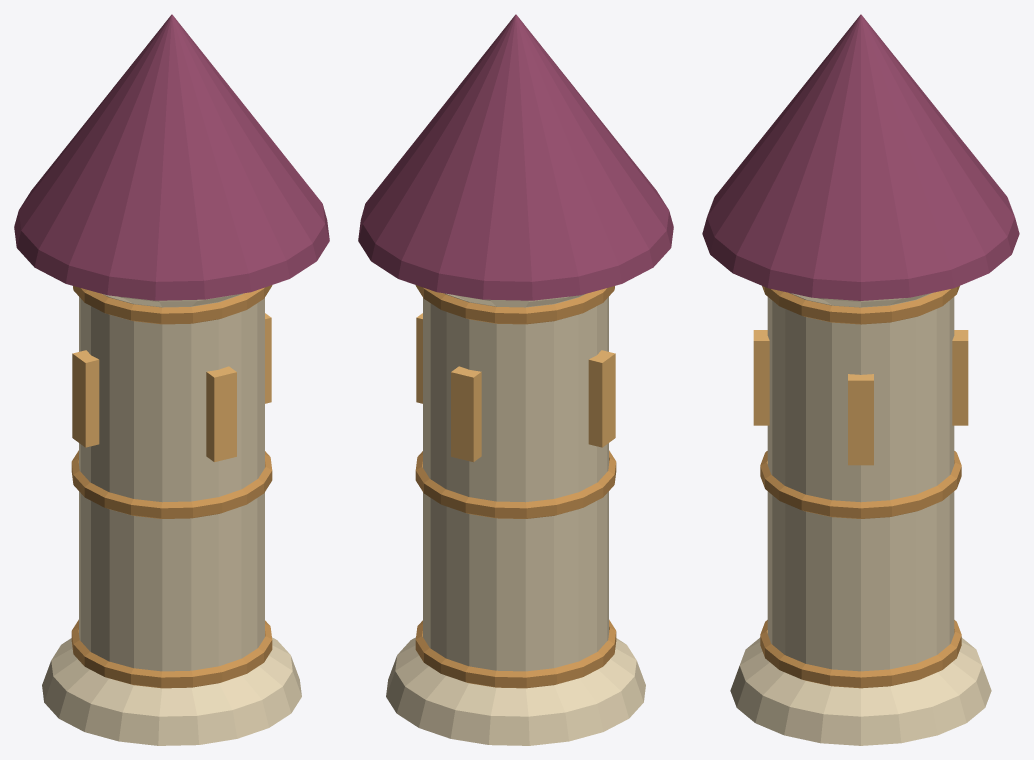
Rendered from Tower.obj.
The picture shows the model from 3 angles, left to right: view 1: azimuth 30°, elevation 25°; view 2: azimuth 150°, elevation 25°; view 3: azimuth 270°, elevation 25°; orthographic projection.
Visible parts, largest first — view 1: Tower; view 2: Tower; view 3: Tower.
Boxes of the visible parts, x1,y1,x2,y2 form: Tower: (14,14,329,745); Tower: (358,14,673,745); Tower: (702,14,1019,745).
Size of the model in its own units: 3.4 by 8 by 3.4.
